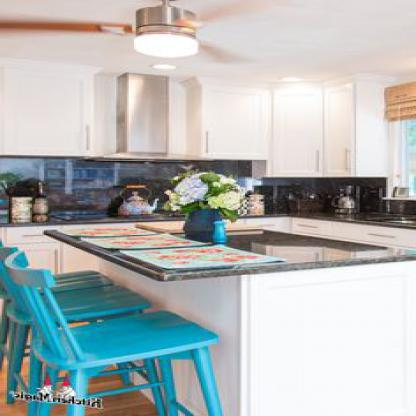chair: (0, 244, 212, 416), (8, 252, 150, 344)
